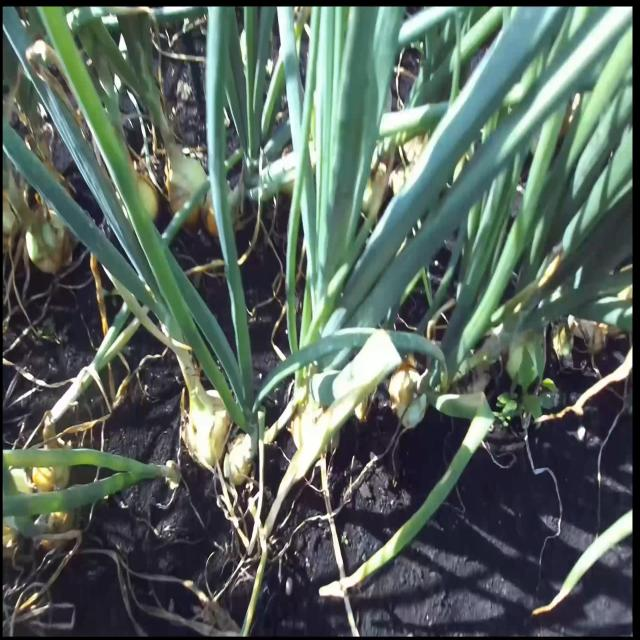onion: (183, 391, 227, 464), (24, 208, 70, 276), (165, 152, 203, 222), (390, 362, 430, 428), (31, 442, 68, 492)
